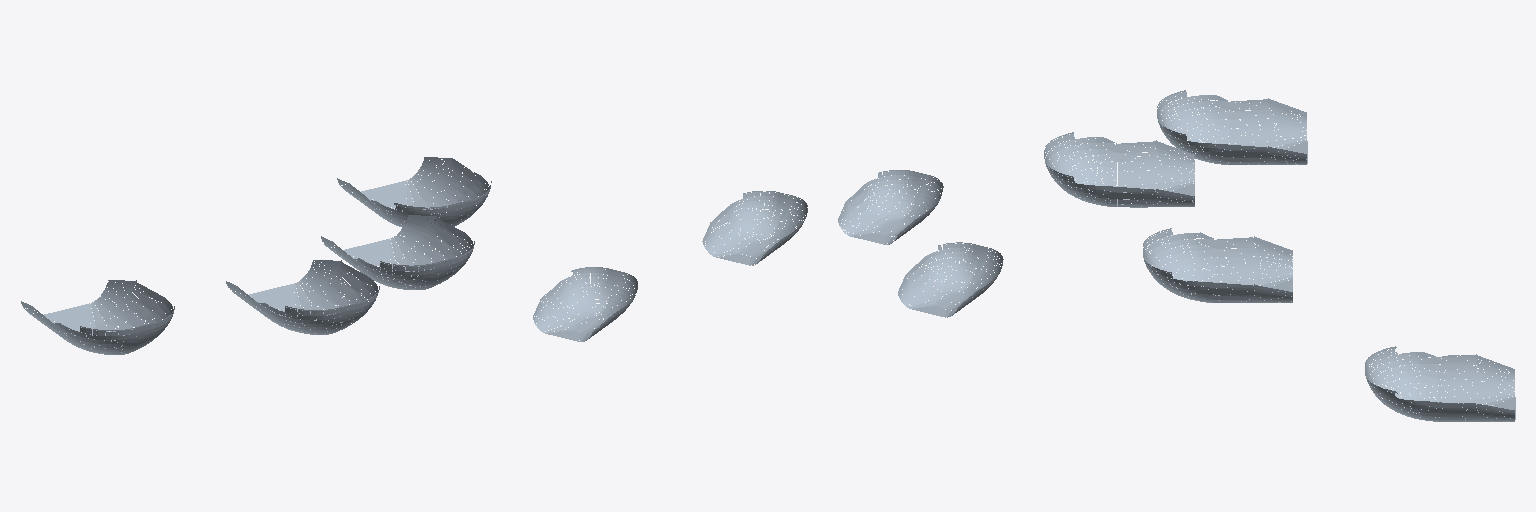
robot.urdf — pad:
<robot name="pad"><link name="LH_index3"><inertial><mass value=".01" /><inertia ixx=".00001" iyy=".00001" izz=".00001" ixy="0" ixz="0" iyz="0" /></inertial><visual><geometry><mesh filename="pad_LH_index3.obj" /></geometry><material name="neutral"><color rgba=".72 .77 .82 1" /></material></visual></link><link name="LH_middle3"><inertial><mass value=".01" /><inertia ixx=".00001" iyy=".00001" izz=".00001" ixy="0" ixz="0" iyz="0" /></inertial><visual><geometry><mesh filename="pad_LH_middle3.obj" /></geometry><material name="neutral"><color rgba=".72 .77 .82 1" /></material></visual></link><joint name="fixed_LH_middle3" type="fixed"><parent link="LH_index3" /><child link="LH_middle3" /></joint><link name="LH_ring3"><inertial><mass value=".01" /><inertia ixx=".00001" iyy=".00001" izz=".00001" ixy="0" ixz="0" iyz="0" /></inertial><visual><geometry><mesh filename="pad_LH_ring3.obj" /></geometry><material name="neutral"><color rgba=".72 .77 .82 1" /></material></visual></link><joint name="fixed_LH_ring3" type="fixed"><parent link="LH_index3" /><child link="LH_ring3" /></joint><link name="LH_pinky3"><inertial><mass value=".01" /><inertia ixx=".00001" iyy=".00001" izz=".00001" ixy="0" ixz="0" iyz="0" /></inertial><visual><geometry><mesh filename="pad_LH_pinky3.obj" /></geometry><material name="neutral"><color rgba=".72 .77 .82 1" /></material></visual></link><joint name="fixed_LH_pinky3" type="fixed"><parent link="LH_index3" /><child link="LH_pinky3" /></joint></robot>

--- Facts derived from the render (not from the file) ---
The picture shows the robot from 3 angles, left to right: view 1: azimuth 30°, elevation 25°; view 2: azimuth 150°, elevation 25°; view 3: azimuth 270°, elevation 25°; orthographic projection.
Robot: pad — 4 links, 3 joints (3 fixed); root link LH_index3; default pose: every joint at zero.
Links seen in each view (by area): view 1: LH_index3, LH_middle3, LH_ring3, LH_pinky3; view 2: LH_middle3, LH_index3, LH_pinky3, LH_ring3; view 3: LH_pinky3, LH_ring3, LH_middle3, LH_index3.
Boxes of the visible links, x1=… form: LH_index3: x1=21, y1=280, x2=174, y2=354; LH_middle3: x1=226, y1=260, x2=379, y2=334; LH_ring3: x1=321, y1=215, x2=474, y2=289; LH_pinky3: x1=337, y1=157, x2=491, y2=230; LH_middle3: x1=838, y1=170, x2=943, y2=244; LH_index3: x1=898, y1=242, x2=1003, y2=317; LH_pinky3: x1=533, y1=267, x2=637, y2=341; LH_ring3: x1=702, y1=191, x2=807, y2=265; LH_pinky3: x1=1365, y1=346, x2=1515, y2=421; LH_ring3: x1=1143, y1=228, x2=1292, y2=302; LH_middle3: x1=1044, y1=132, x2=1194, y2=207; LH_index3: x1=1157, y1=90, x2=1307, y2=164.
Size in the robot's own frame: 0.077 by 0.0618 by 0.0187 metres.
Meshes: 4 distinct files referenced, 4 mesh visuals loaded (4 OBJ).
